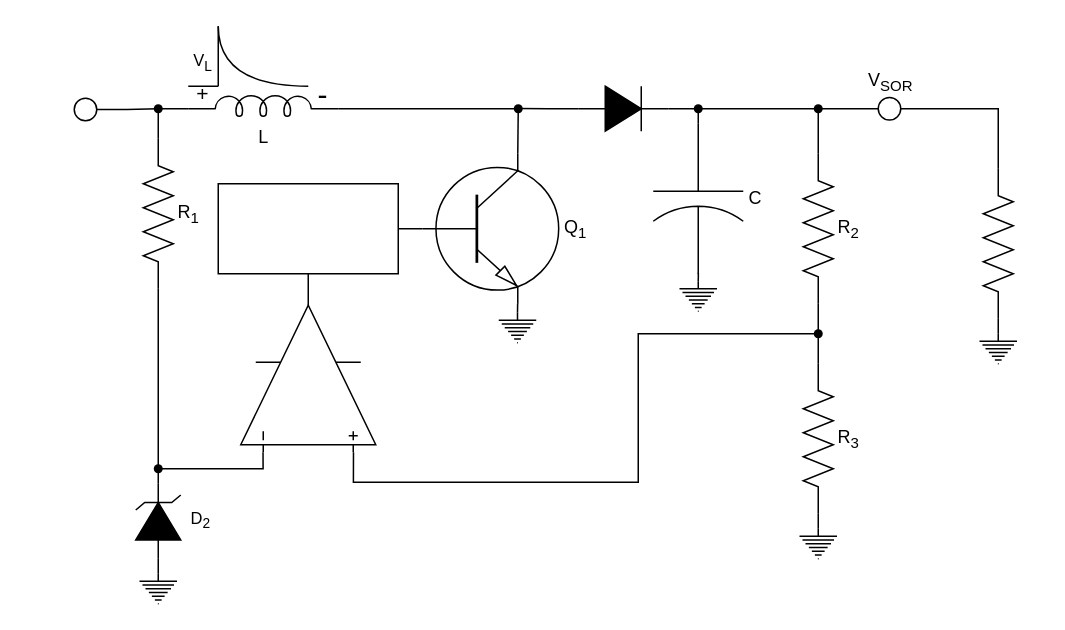
Image size: 1065x630. Some labels were removed from this diagram. Here are the shapes that lost their labels. From the top down, the centre of each, then its label:
At pixel 85 109: "V ENT".
At pixel 622 108: "D 1".
At pixel 307 228: "Oscillateur à largeur d'impulsion variable".
At pixel 997 243: "R C".
